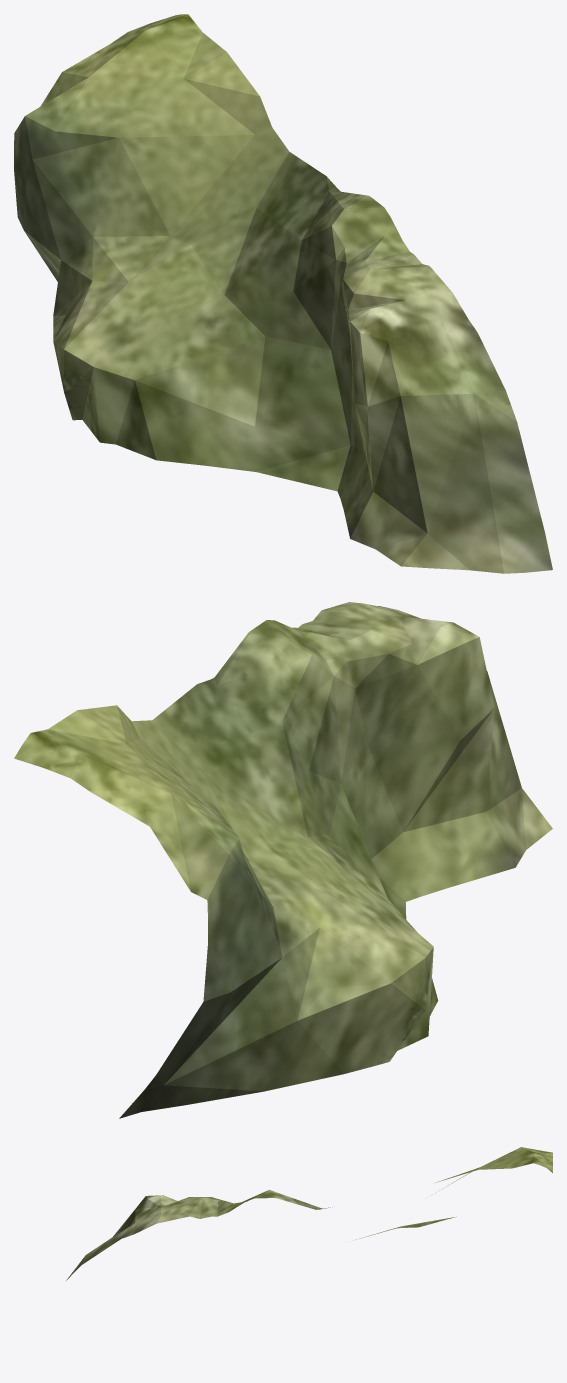
The picture shows the model from 3 angles, top to bottom: view 1: azimuth 30°, elevation 25°; view 2: azimuth 150°, elevation 25°; view 3: azimuth 270°, elevation 25°; orthographic projection. The views are drawn at different scales.
Size of the model in its own units: 0.9872 by 1.21 by 2.86.
1 material, 1 textured.
